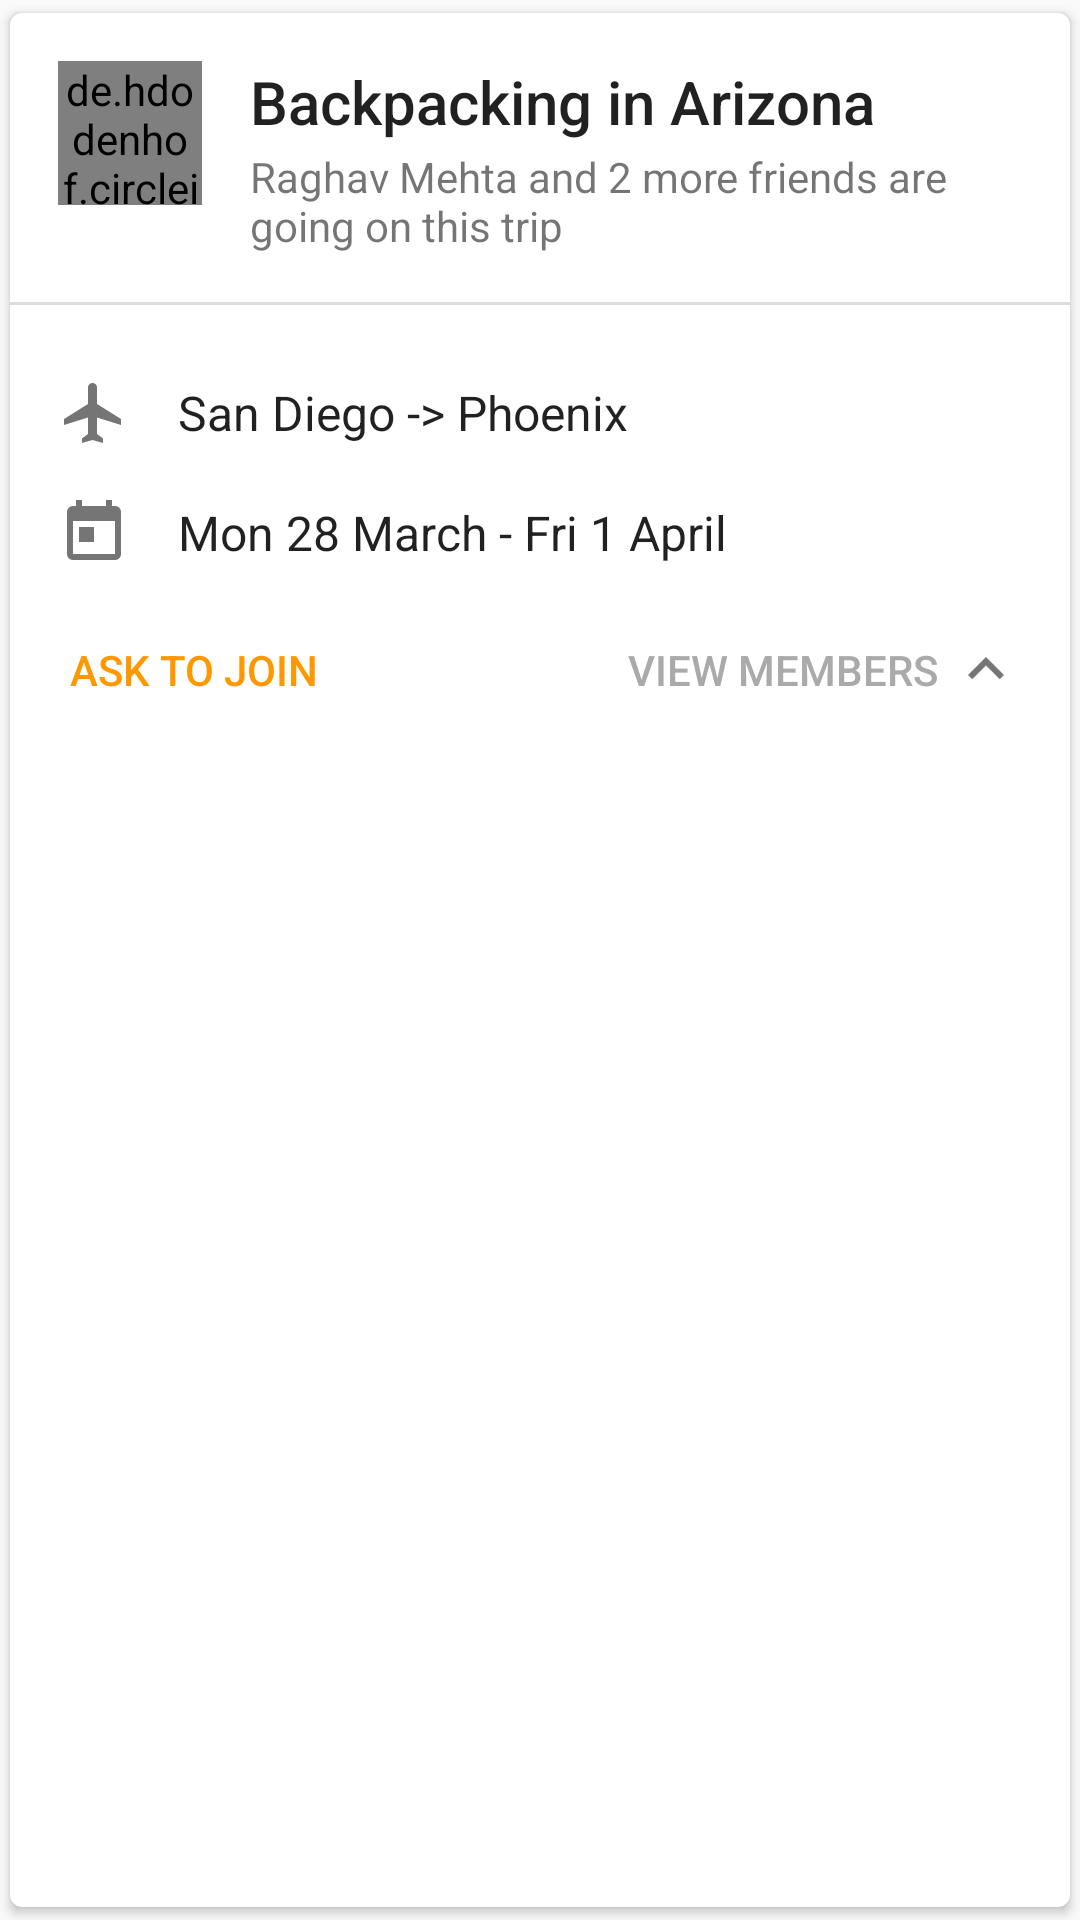

Where to tap for icons on this 1080x1920 app screen, as (x=x, y=y):
keyboard arrow up: (x=986, y=668)
